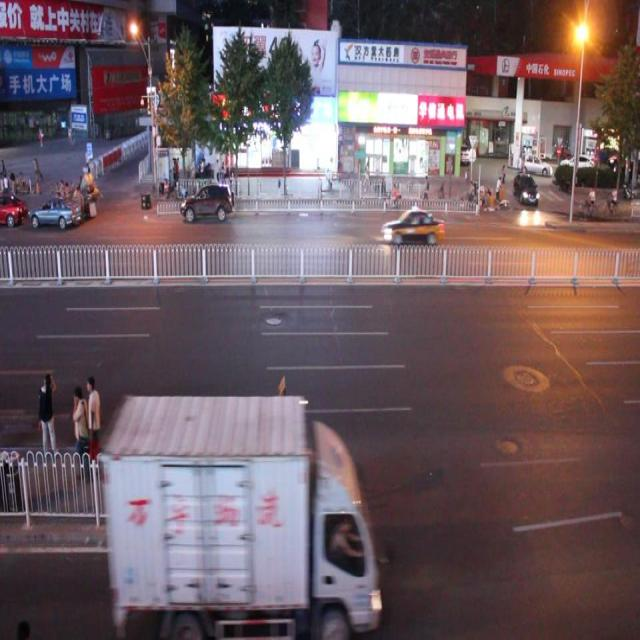bus: (101, 394, 379, 640)
car: (381, 206, 444, 247), (181, 181, 235, 224), (28, 193, 82, 231)
